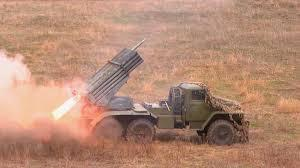MIL_SAM_TEL: (71, 46, 245, 146)
